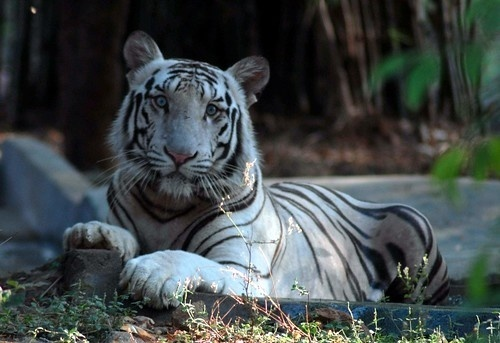tigre: (58, 29, 445, 307)
